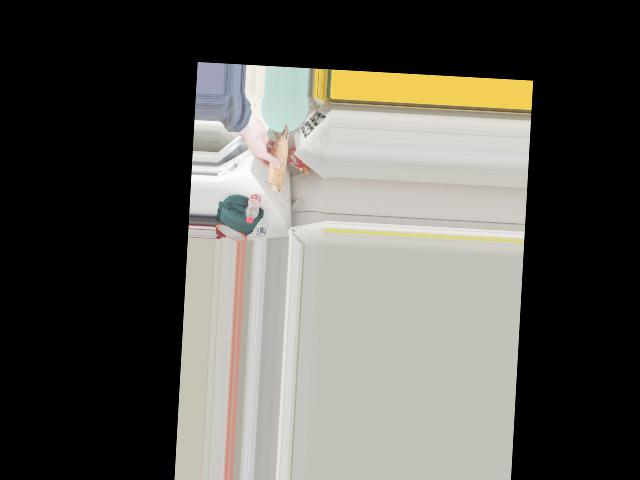sweet_potato: (262, 122, 294, 196)
